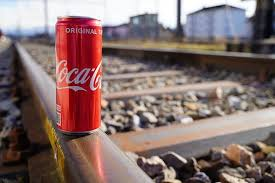coke: (54, 16, 102, 133)
